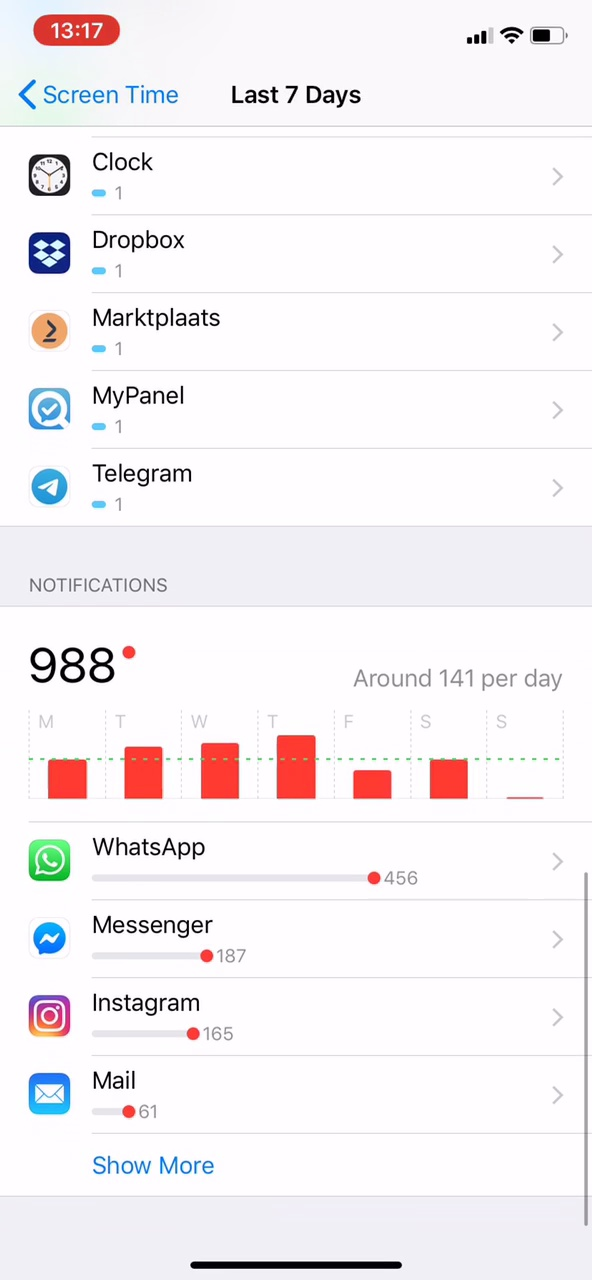not_app: (22, 825, 451, 902), (22, 908, 315, 982), (20, 991, 317, 1058), (18, 1060, 254, 1135)
not_over: (20, 567, 207, 697)
pick_app: (11, 449, 279, 525), (14, 374, 268, 446), (18, 135, 240, 217), (17, 300, 259, 369), (18, 224, 247, 294)
week: (209, 71, 394, 116)
